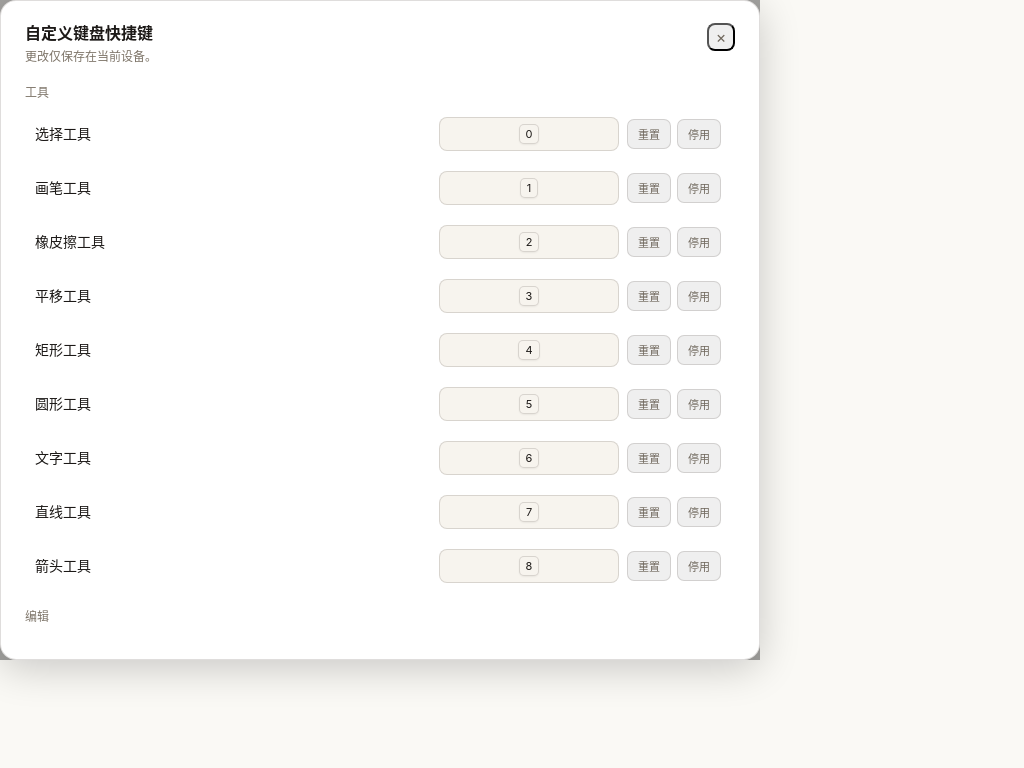
Scenario: KeyboardShortcutSettings › shows a conflict when assigning a used shortcut
Click the button named "设置画笔工具快捷键" at [529, 188], box [439,171,619,205]
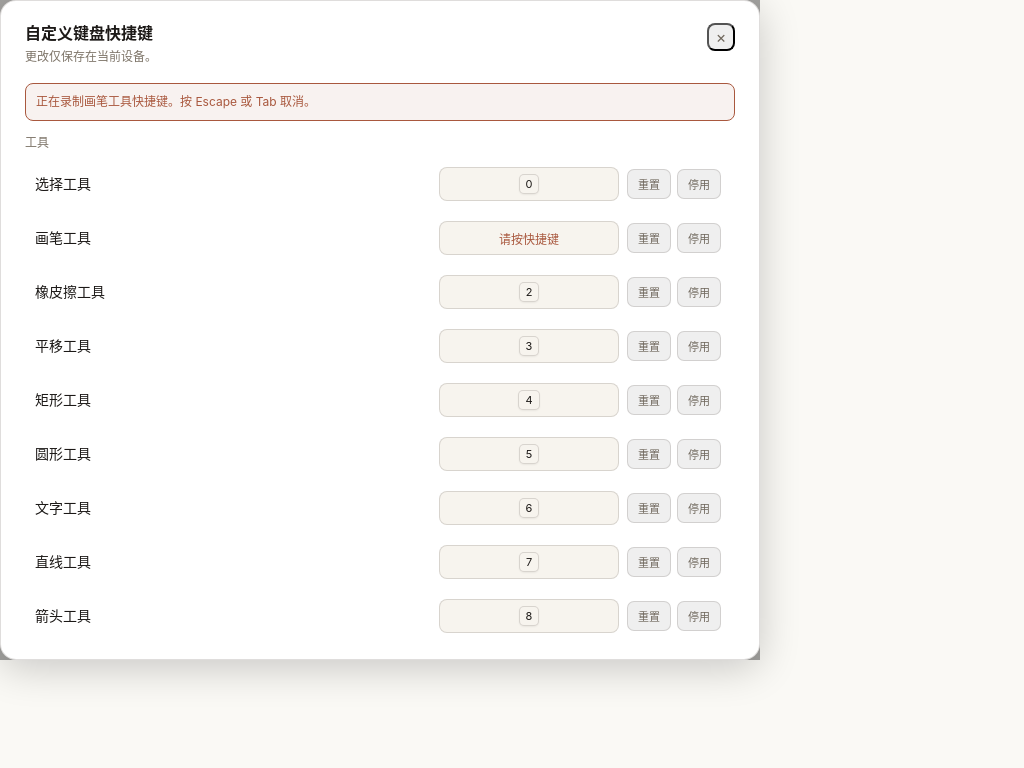
Press 0 in the button with aria-label "设置画笔工具快捷键", box [439,221,619,255]
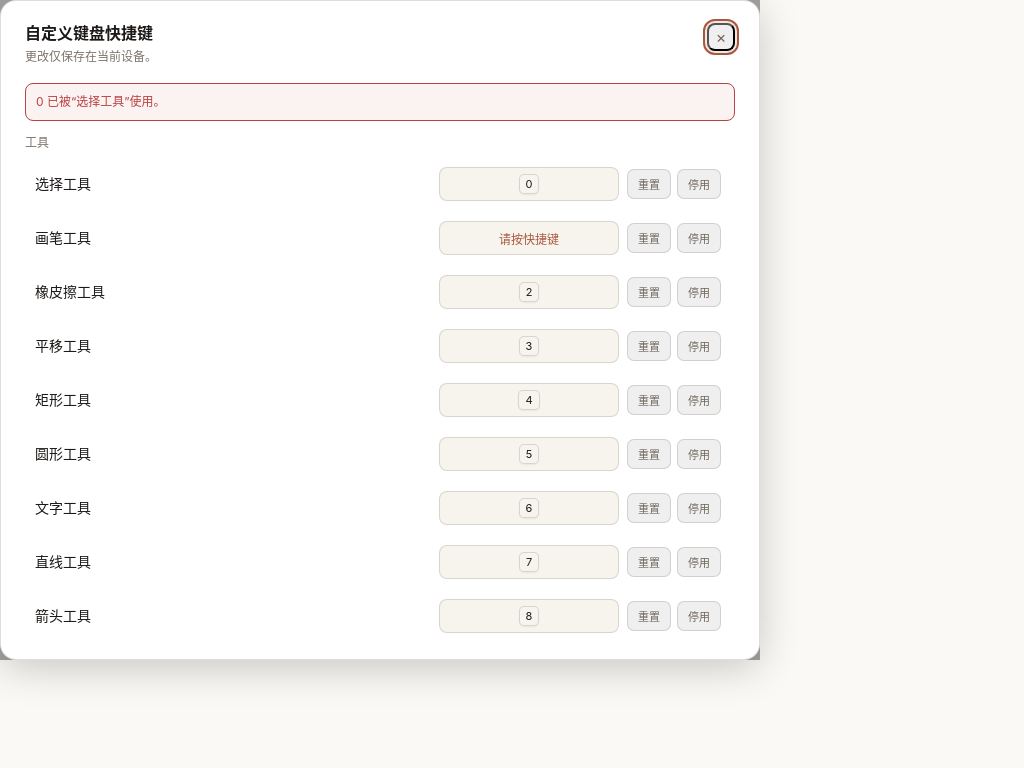
Expected: the text "0 已被“选择工具”使用。" is shown, [25,83,735,121]
